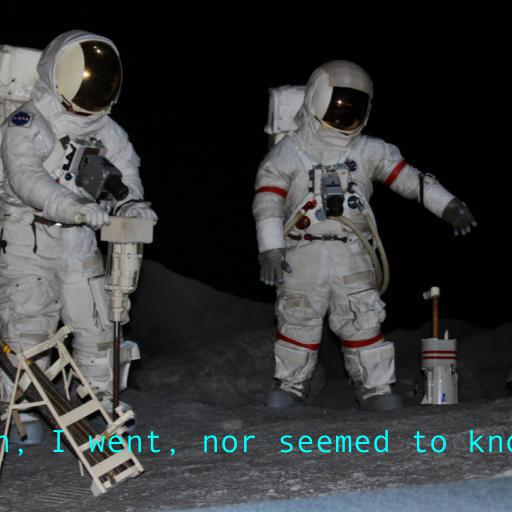Andale Mono: (0, 429, 512, 456)
